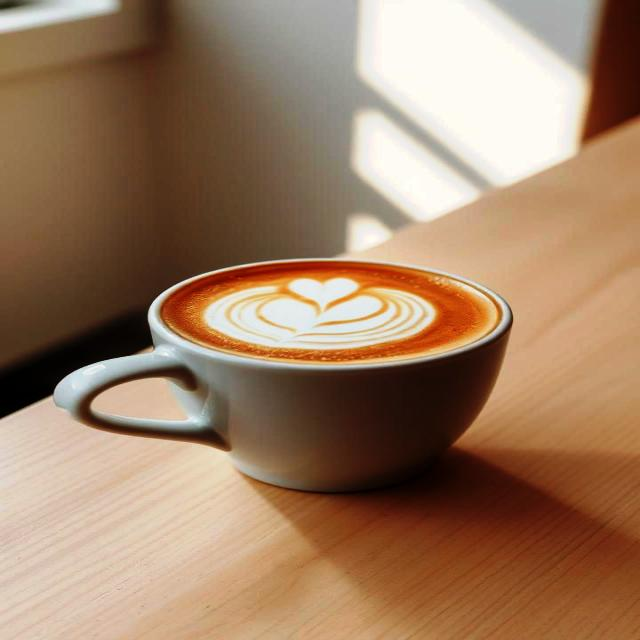drink: (54, 258, 512, 492)
